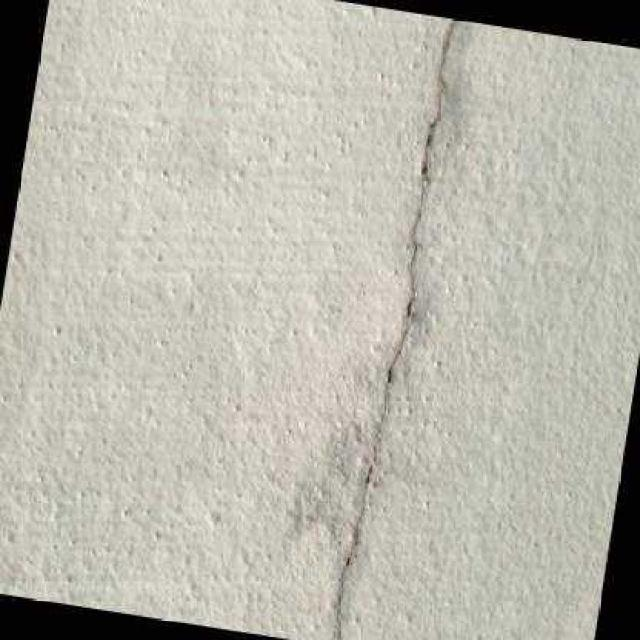D00: (333, 17, 454, 640)
